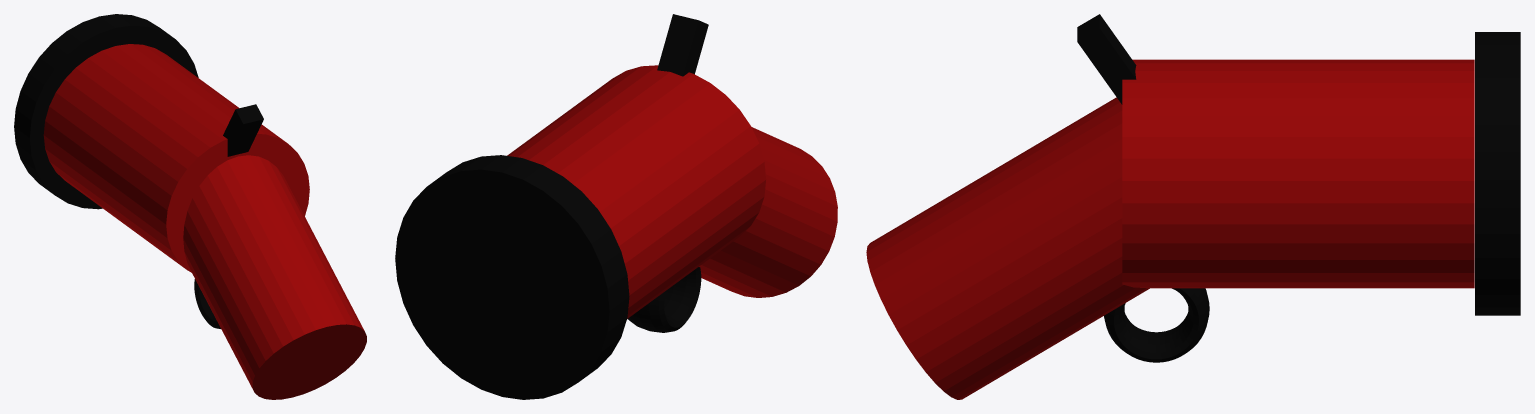
File: flaregun.fbx
The picture shows the model from 3 angles, left to right: view 1: azimuth 30°, elevation 25°; view 2: azimuth 150°, elevation 25°; view 3: azimuth 270°, elevation 25°; orthographic projection. The views are drawn at different scales.
Visible parts, largest first — view 1: Cylinder, Cylinder.002, Cylinder.001, Cube, Torus; view 2: Cylinder.001, Cylinder, Cylinder.002, Torus, Cube; view 3: Cylinder, Cylinder.002, Cylinder.001, Torus, Cube.
Boxes of the visible parts, x1,y1,x2,y2 form: Cylinder: [43, 44, 309, 272]; Cylinder.002: [183, 155, 366, 399]; Cylinder.001: [14, 14, 198, 209]; Cube: [223, 104, 263, 156]; Torus: [194, 279, 220, 328]; Cylinder.001: [395, 155, 629, 399]; Cylinder: [507, 65, 766, 318]; Cylinder.002: [699, 127, 837, 297]; Torus: [628, 267, 701, 332]; Cube: [657, 14, 708, 76]; Cylinder: [1122, 59, 1474, 288]; Cylinder.002: [866, 97, 1149, 399]; Cylinder.001: [1475, 32, 1520, 315]; Torus: [1104, 288, 1209, 362]; Cube: [1077, 14, 1136, 104].
Bounding box in the file's own units: 50 × 71.7 × 115.
